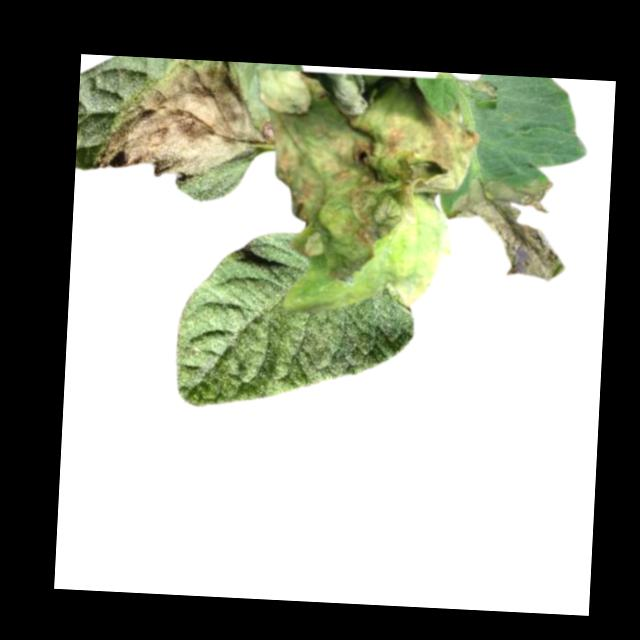Late_blight: (246, 67, 497, 290), (91, 55, 259, 185), (446, 175, 571, 286)
